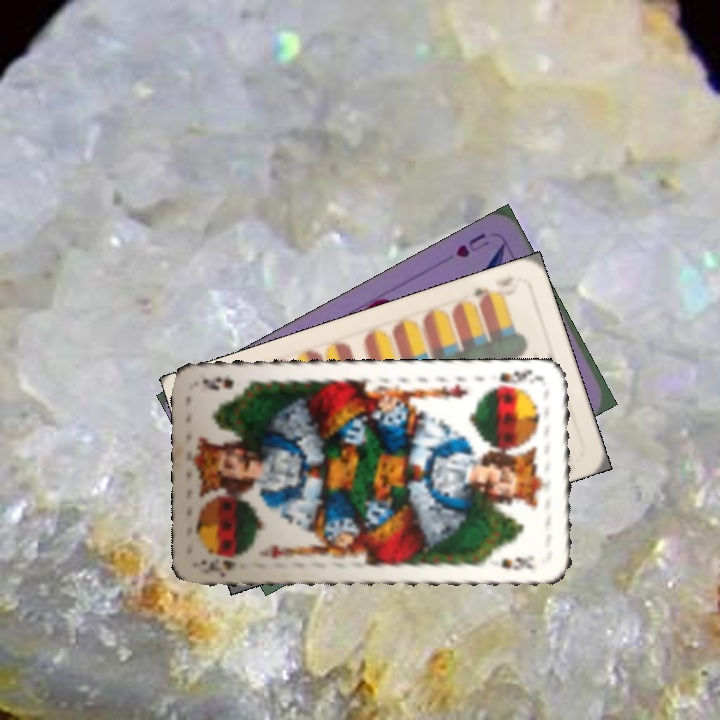E10: (469, 283, 503, 308)
HU: (451, 229, 492, 261)
SK: (486, 366, 545, 393), (197, 554, 239, 581)
